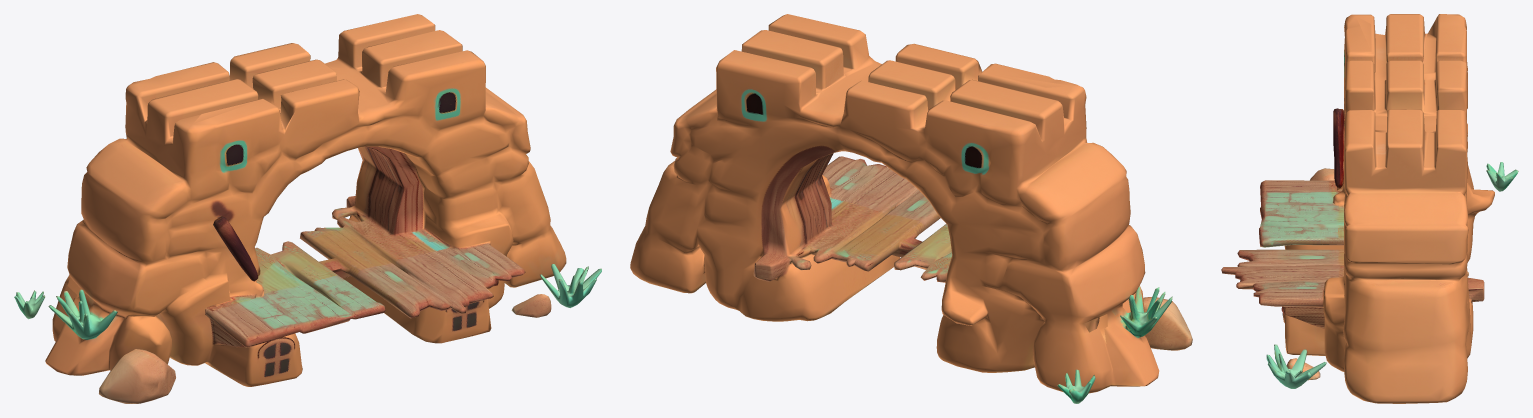
The model's file is broken_wash_bridge.glb.
The picture shows the model from 3 angles, left to right: view 1: azimuth 30°, elevation 25°; view 2: azimuth 150°, elevation 25°; view 3: azimuth 270°, elevation 25°; orthographic projection. The views are drawn at different scales.
Bounding box in the file's own units: 1.91 × 0.8924 × 1.08.
1 material, 1 textured.
